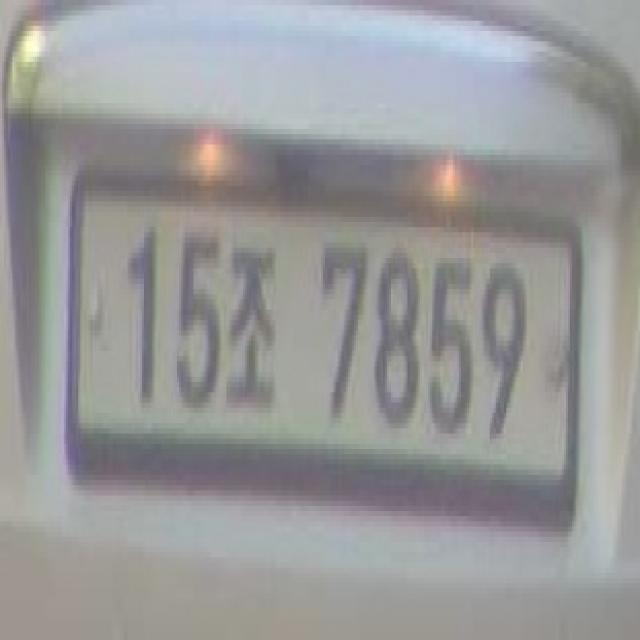1: (119, 212, 169, 418)
5: (173, 217, 224, 423), (426, 242, 477, 444)
7: (315, 232, 368, 434)
8: (372, 237, 422, 433)
9: (479, 253, 529, 454)
jo: (224, 232, 280, 418)
license_plate: (58, 160, 586, 552)
